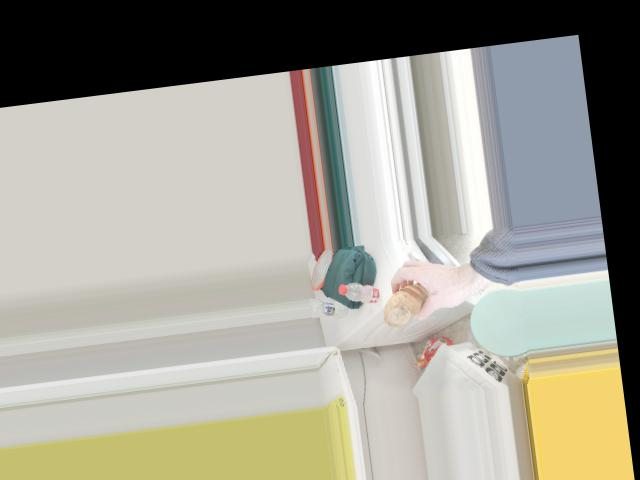sweet_potato: (378, 283, 431, 327)
